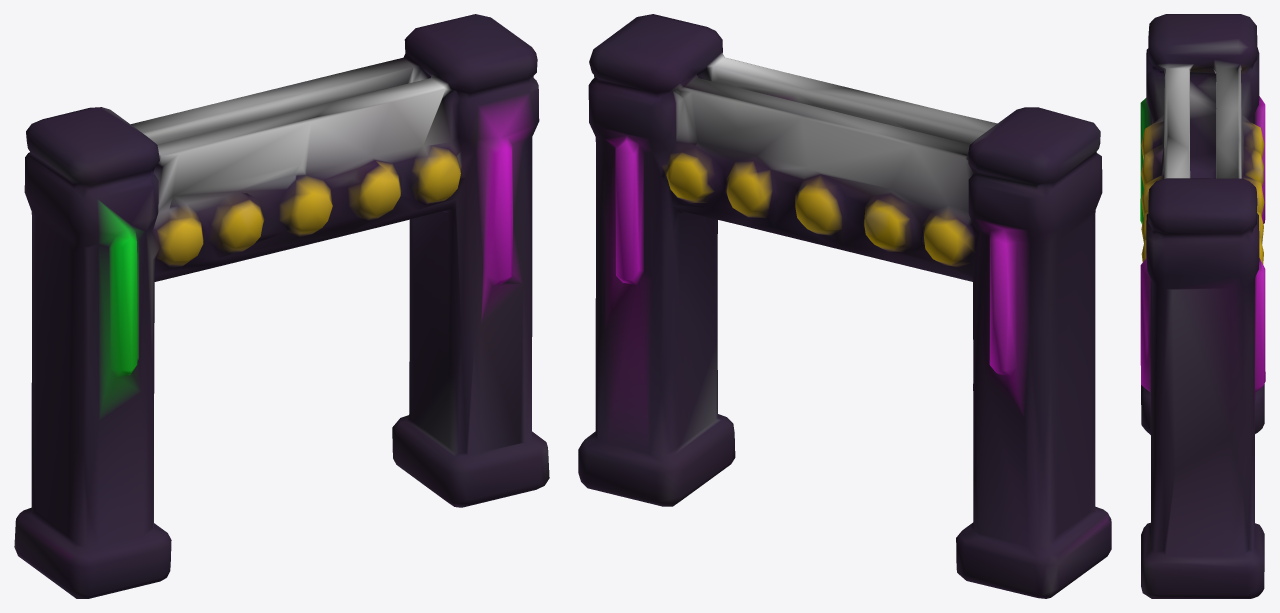
File: env_kart_finish_arch.glb
3 views of the same model, side by side, from view 1: azimuth 30°, elevation 25°; view 2: azimuth 150°, elevation 25°; view 3: azimuth 270°, elevation 25° (orthographic). The views are drawn at different scales.
Visible parts, largest first — view 1: geometry_0; view 2: geometry_0; view 3: geometry_0.
Part boxes in pixels (left/top/right/bottom): geometry_0: left=14, top=14, right=549, bottom=598; geometry_0: left=578, top=14, right=1111, bottom=598; geometry_0: left=1140, top=14, right=1265, bottom=598.
Bounding box in the file's own units: 8 × 7.06 × 2.04.
